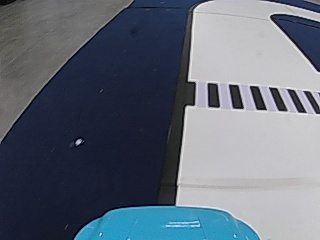CrossWalk: (186, 81, 315, 113)
